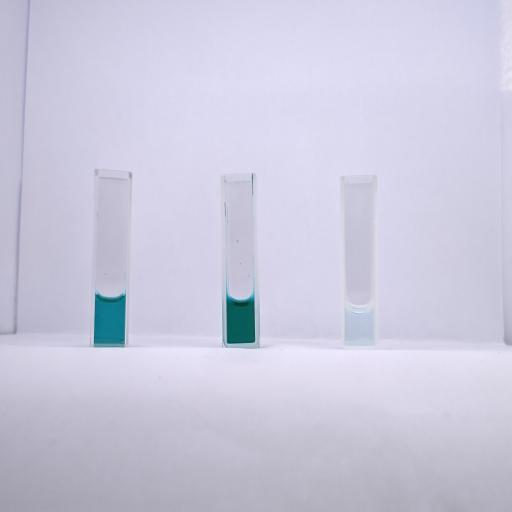cuvette: (88, 168, 135, 348), (219, 171, 262, 349), (339, 172, 380, 350)
liquid: (94, 294, 126, 343), (226, 296, 255, 344), (344, 304, 375, 344)
